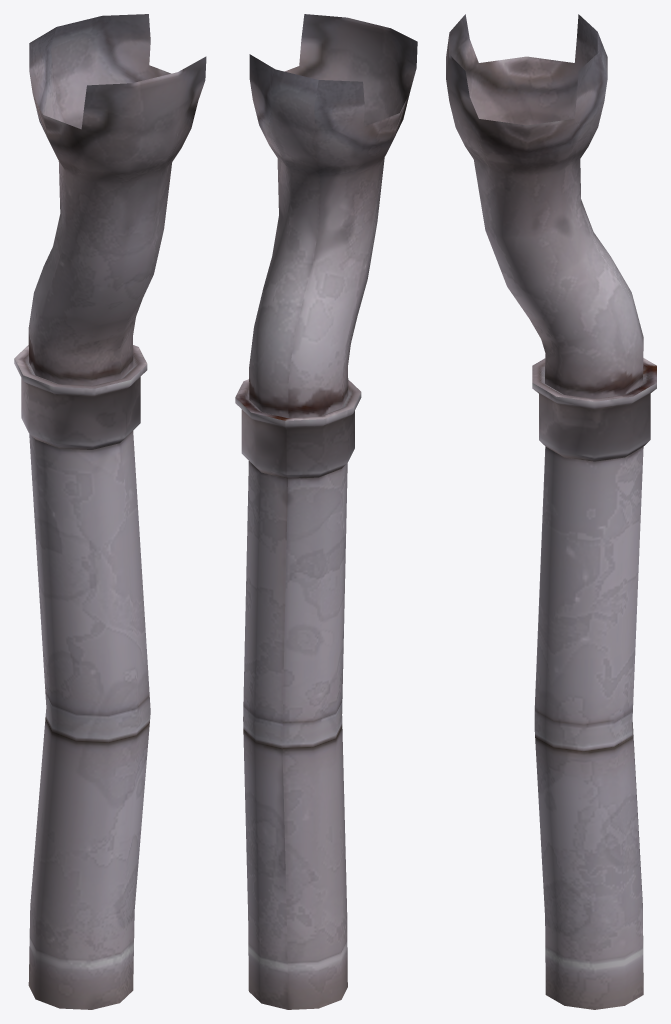
The model's file is PropRoofDrainage01_4.FBX.
The picture shows the model from 3 angles, left to right: view 1: azimuth 30°, elevation 25°; view 2: azimuth 150°, elevation 25°; view 3: azimuth 270°, elevation 25°; orthographic projection. The views are drawn at different scales.
Visible parts, largest first — view 1: PropRoofDrainage01_4; view 2: PropRoofDrainage01_4; view 3: PropRoofDrainage01_4.
Boxes of the visible parts, box(x1,y1,x2,y2) form: PropRoofDrainage01_4: box(14, 14, 206, 1009); PropRoofDrainage01_4: box(235, 14, 417, 1009); PropRoofDrainage01_4: box(446, 14, 656, 1009).
Size of what is drawn, in the model's own units: 0.2538 by 1.62 by 0.3282.
